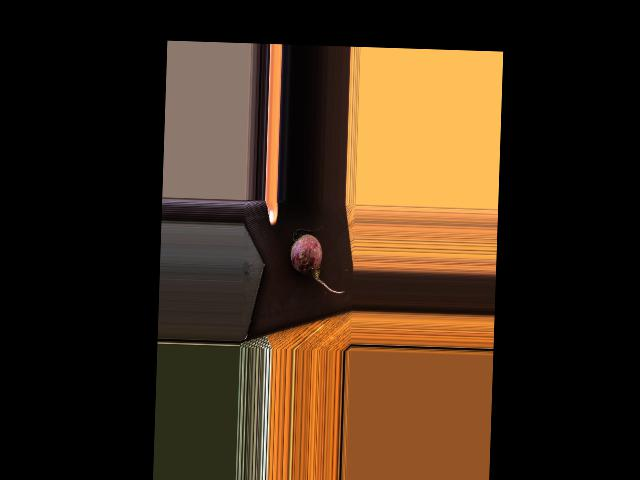beet: (289, 223, 346, 294)
